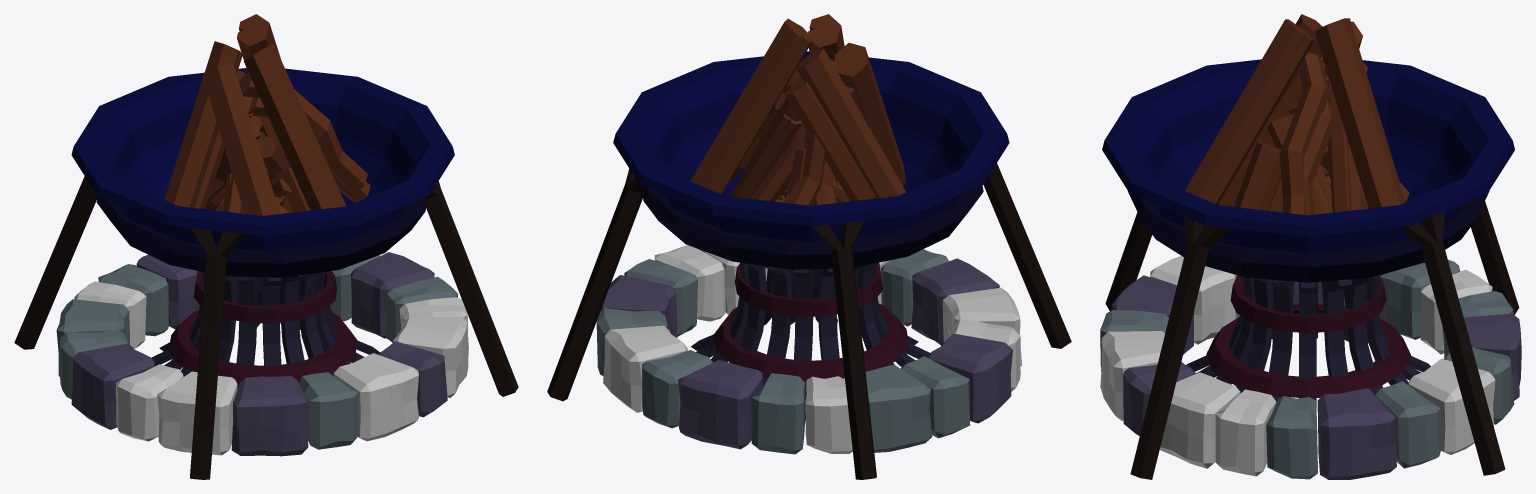
File: GlowCorePhase3.fbx
3 views of the same model, side by side, from view 1: azimuth 30°, elevation 25°; view 2: azimuth 150°, elevation 25°; view 3: azimuth 270°, elevation 25° (orthographic). The views are drawn at different scales.
Parts seen in each view (by area): view 1: Stones, BigBowl, LogsLevel5, OuterLegs, OuterRing, InnerLegsLevel5, InnerRing01, InnerRing02, LogsLevel3, InnerLegsLevel2, LogsLevel4, InnerLegsLevel1; view 2: Stones, BigBowl, LogsLevel5, OuterLegs, OuterRing, LogsLevel4, InnerRing01, InnerLegsLevel5, InnerLegsLevel1, InnerRing02, InnerLegsLevel2, LogsLevel3; view 3: Stones, BigBowl, LogsLevel5, OuterLegs, OuterRing, InnerLegsLevel5, InnerRing01, LogsLevel4, InnerRing02, LogsLevel3, InnerLegsLevel2, InnerLegsLevel1 (+1 smaller).
Boxes of the visible parts, x1=… form: Stones: x1=56, y1=252, x2=468, y2=456; BigBowl: x1=71, y1=68, x2=454, y2=251; LogsLevel5: x1=164, y1=14, x2=367, y2=215; OuterLegs: x1=14, y1=176, x2=518, y2=479; OuterRing: x1=96, y1=196, x2=426, y2=277; InnerLegsLevel5: x1=159, y1=271, x2=364, y2=376; InnerRing01: x1=168, y1=302, x2=357, y2=384; InnerRing02: x1=193, y1=271, x2=336, y2=323; LogsLevel3: x1=206, y1=121, x2=346, y2=213; InnerLegsLevel2: x1=151, y1=272, x2=350, y2=389; LogsLevel4: x1=194, y1=70, x2=370, y2=213; InnerLegsLevel1: x1=181, y1=272, x2=379, y2=382; Stones: x1=596, y1=245, x2=1022, y2=454; BigBowl: x1=613, y1=51, x2=1009, y2=242; LogsLevel5: x1=690, y1=14, x2=906, y2=205; OuterLegs: x1=547, y1=163, x2=1071, y2=479; OuterRing: x1=643, y1=185, x2=983, y2=269; LogsLevel4: x1=729, y1=78, x2=875, y2=205; InnerRing01: x1=713, y1=303, x2=908, y2=381; InnerLegsLevel5: x1=696, y1=263, x2=918, y2=425; InnerLegsLevel1: x1=691, y1=264, x2=894, y2=386; InnerRing02: x1=735, y1=262, x2=883, y2=316; InnerLegsLevel2: x1=711, y1=262, x2=929, y2=362; LogsLevel3: x1=775, y1=162, x2=849, y2=205; Stones: x1=1100, y1=256, x2=1521, y2=479; BigBowl: x1=1102, y1=59, x2=1514, y2=253; LogsLevel5: x1=1185, y1=14, x2=1409, y2=214; OuterLegs: x1=1105, y1=201, x2=1519, y2=479; OuterRing: x1=1128, y1=191, x2=1489, y2=282; InnerLegsLevel5: x1=1186, y1=276, x2=1430, y2=402; InnerRing01: x1=1206, y1=304, x2=1411, y2=398; LogsLevel4: x1=1218, y1=56, x2=1367, y2=215; InnerRing02: x1=1230, y1=275, x2=1386, y2=333; LogsLevel3: x1=1233, y1=102, x2=1332, y2=214; InnerLegsLevel2: x1=1207, y1=274, x2=1383, y2=394; InnerLegsLevel1: x1=1196, y1=277, x2=1421, y2=407.
Bounding box in the file's own units: 365 × 338 × 341.
